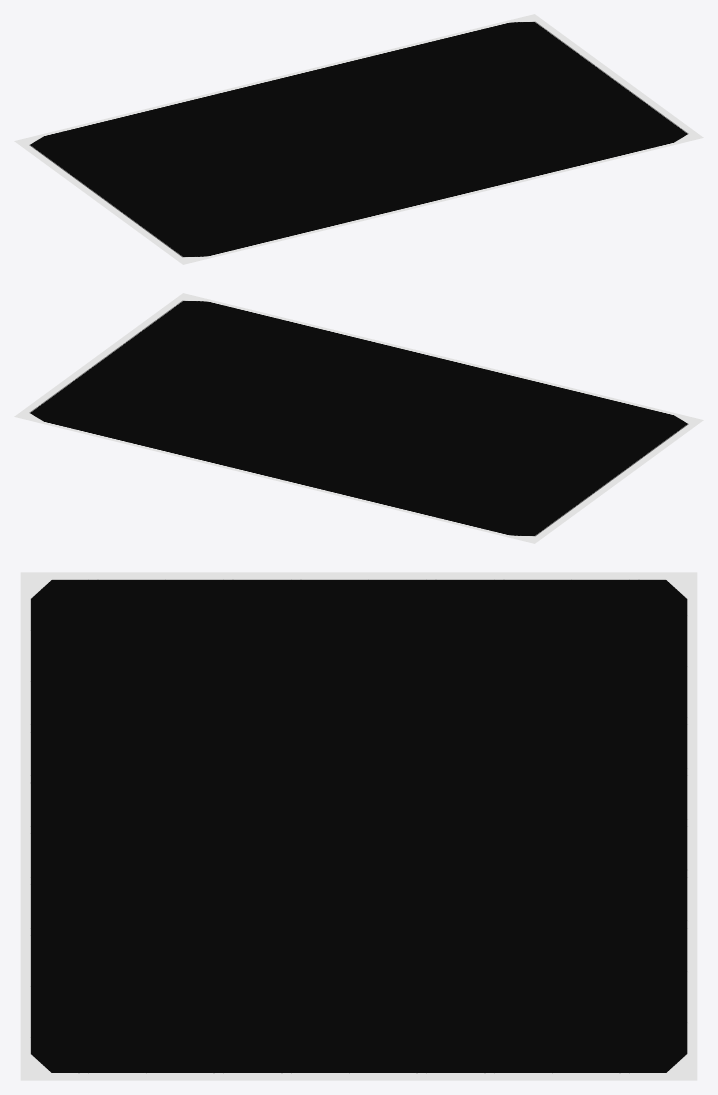
Rendered from Platform.fbx.
3 renders of one model, top to bottom at view 1: azimuth 30°, elevation 25°; view 2: azimuth 150°, elevation 25°; view 3: azimuth 270°, elevation 25°, orthographic. The views are drawn at different scales.
Parts seen in each view (by area): view 1: Platform; view 2: Platform; view 3: Platform.
Part boxes in pixels (x1,y1,x2,y2): Platform: (14,14,703,264); Platform: (14,293,703,543); Platform: (20,572,697,1080).
Bounding box in the file's own units: 8000 × 1.78e-13 × 4500.
1 material, 1 textured.
